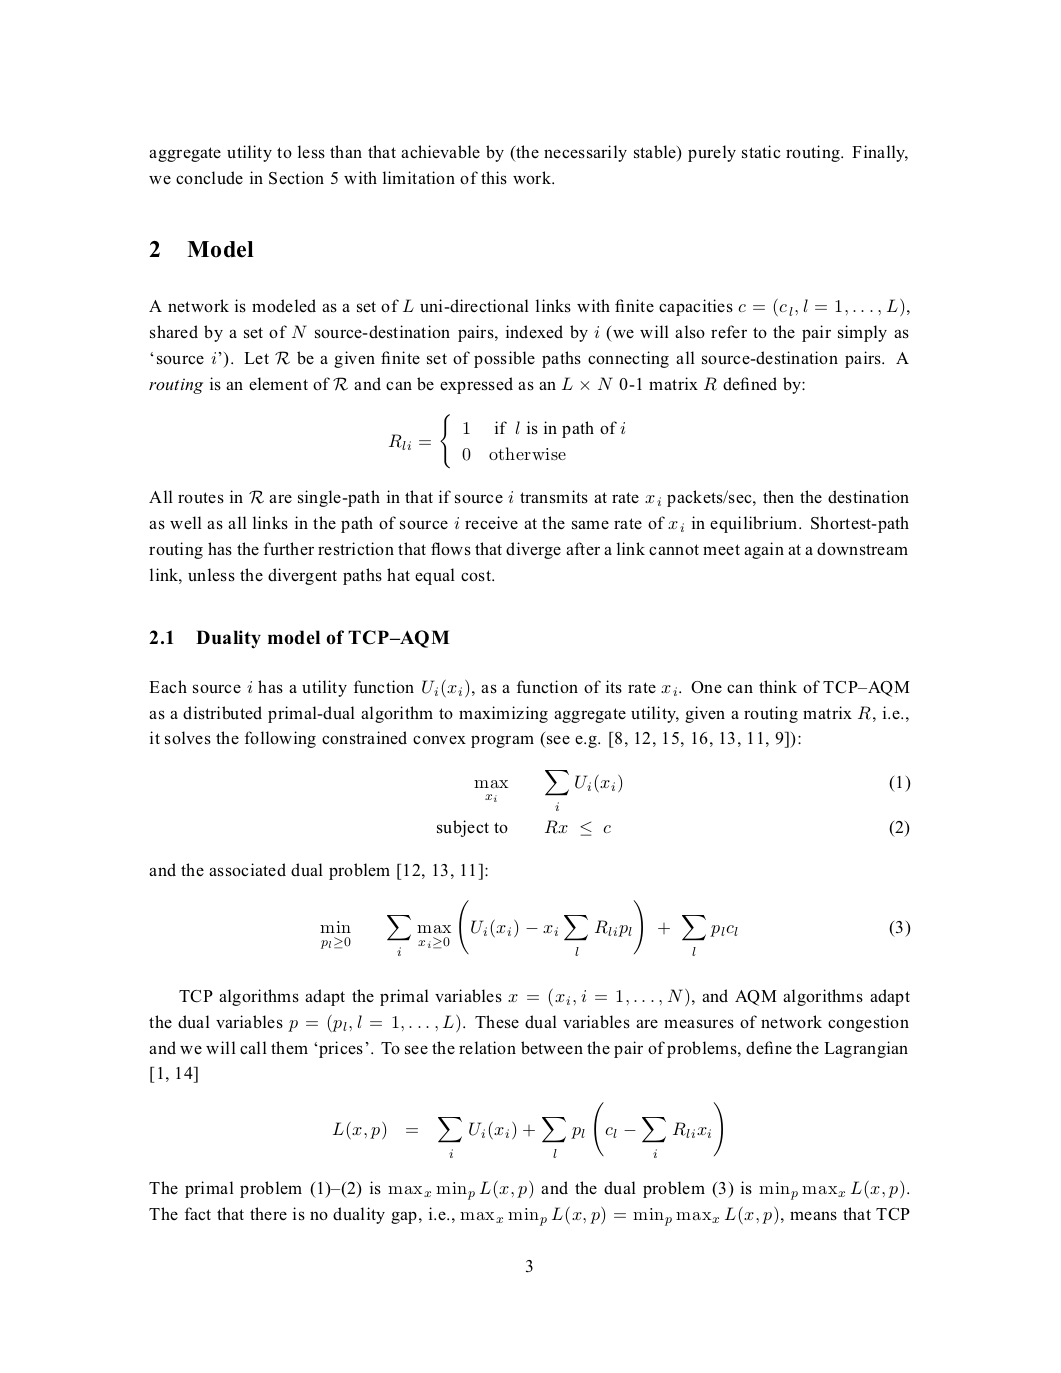formula: (320, 899, 911, 956), (332, 1101, 722, 1158), (474, 770, 911, 810), (388, 413, 625, 469), (436, 819, 909, 837)
